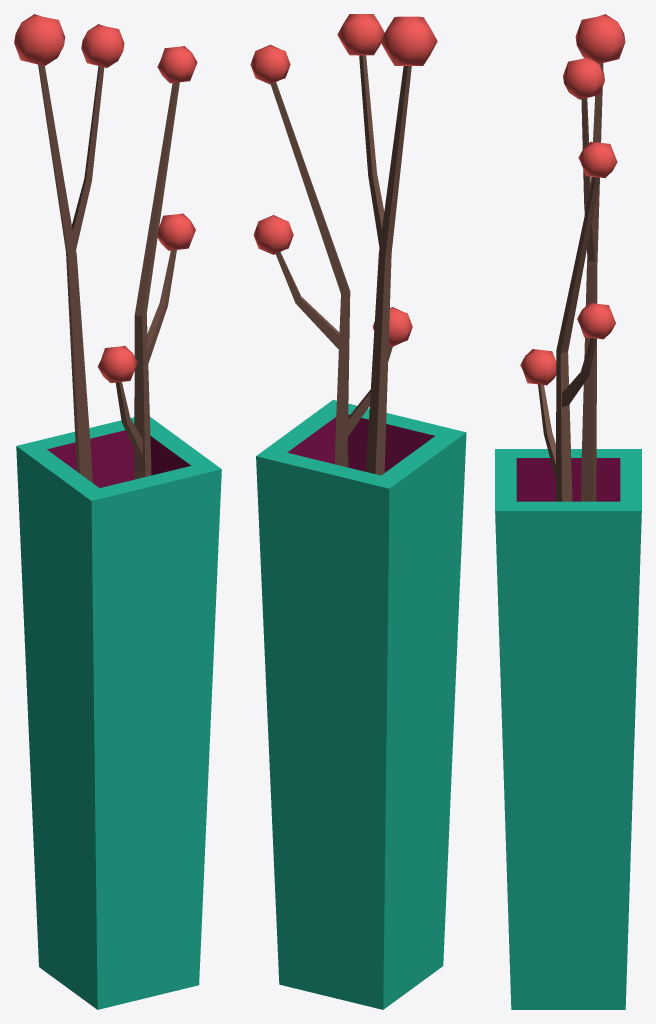
Rendered from Plant2 LV1.fbx.
3 views of the same model, side by side, from view 1: azimuth 30°, elevation 25°; view 2: azimuth 150°, elevation 25°; view 3: azimuth 270°, elevation 25° (orthographic). The views are drawn at different scales.
Parts seen in each view (by area): view 1: Plant2_LV1; view 2: Plant2_LV1; view 3: Plant2_LV1.
Part boxes in pixels (left/top/right/bottom): Plant2_LV1: left=14, top=14, right=221, bottom=1009; Plant2_LV1: left=250, top=14, right=466, bottom=1009; Plant2_LV1: left=495, top=14, right=641, bottom=1009.
Bounding box in the file's own units: 48.29 × 253 × 35.76.
